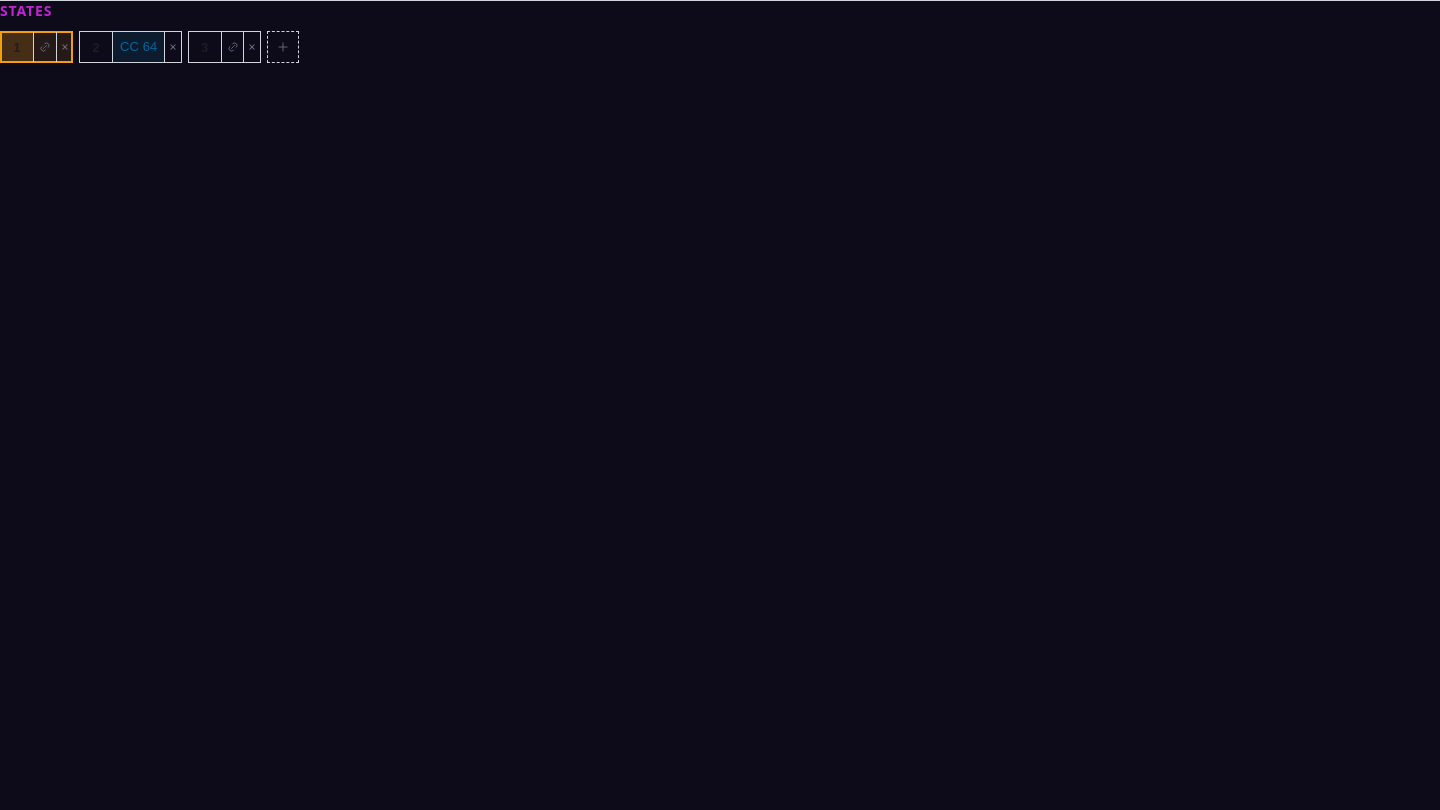
Test: StatesSection › opens the MIDI assign dialog when an unassigned state segment is clicked
Click the button named "assign midi to state" at (44, 46), box [33,32,56,62]
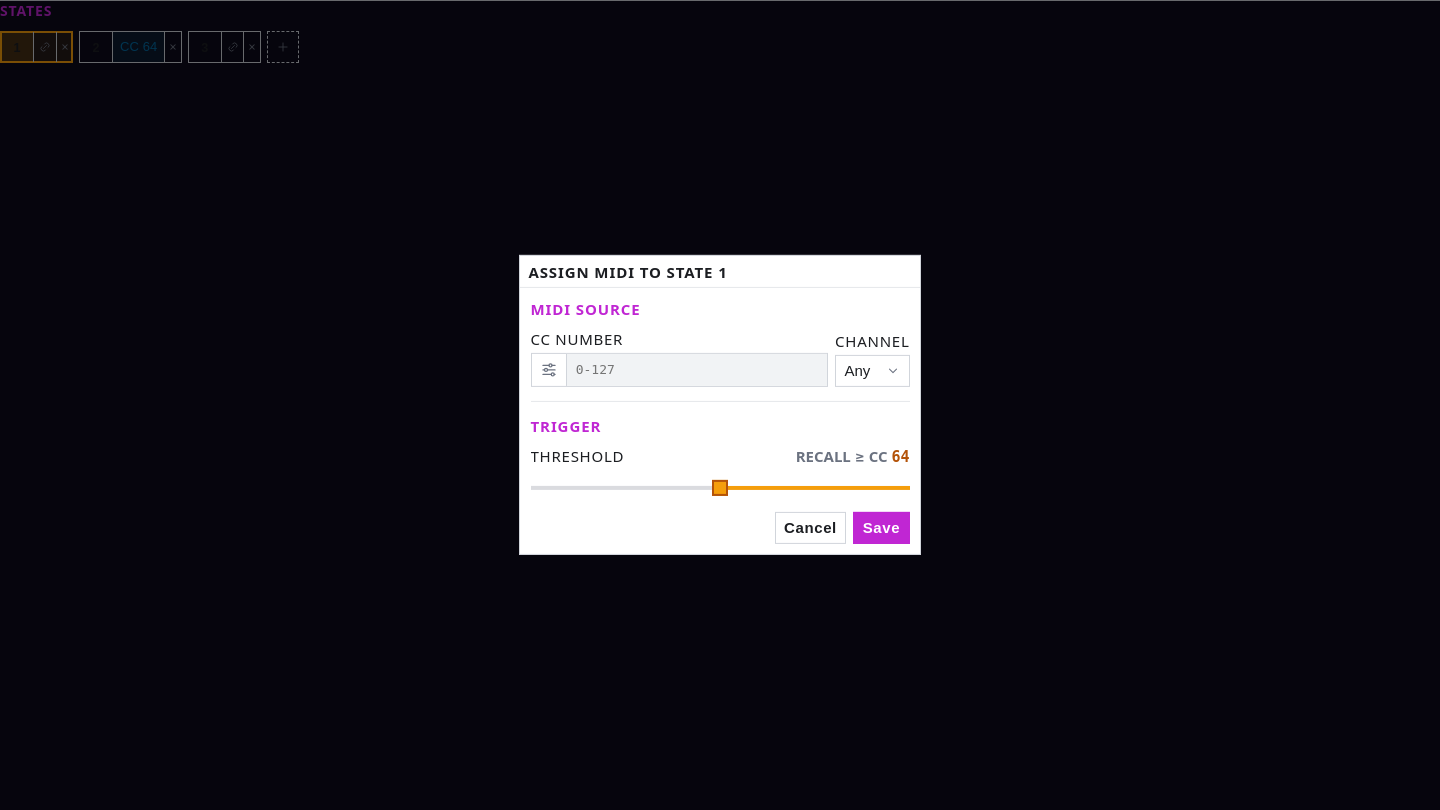
Check: the heading "Assign MIDI to state 1" is shown, box [528,262,728,282]
